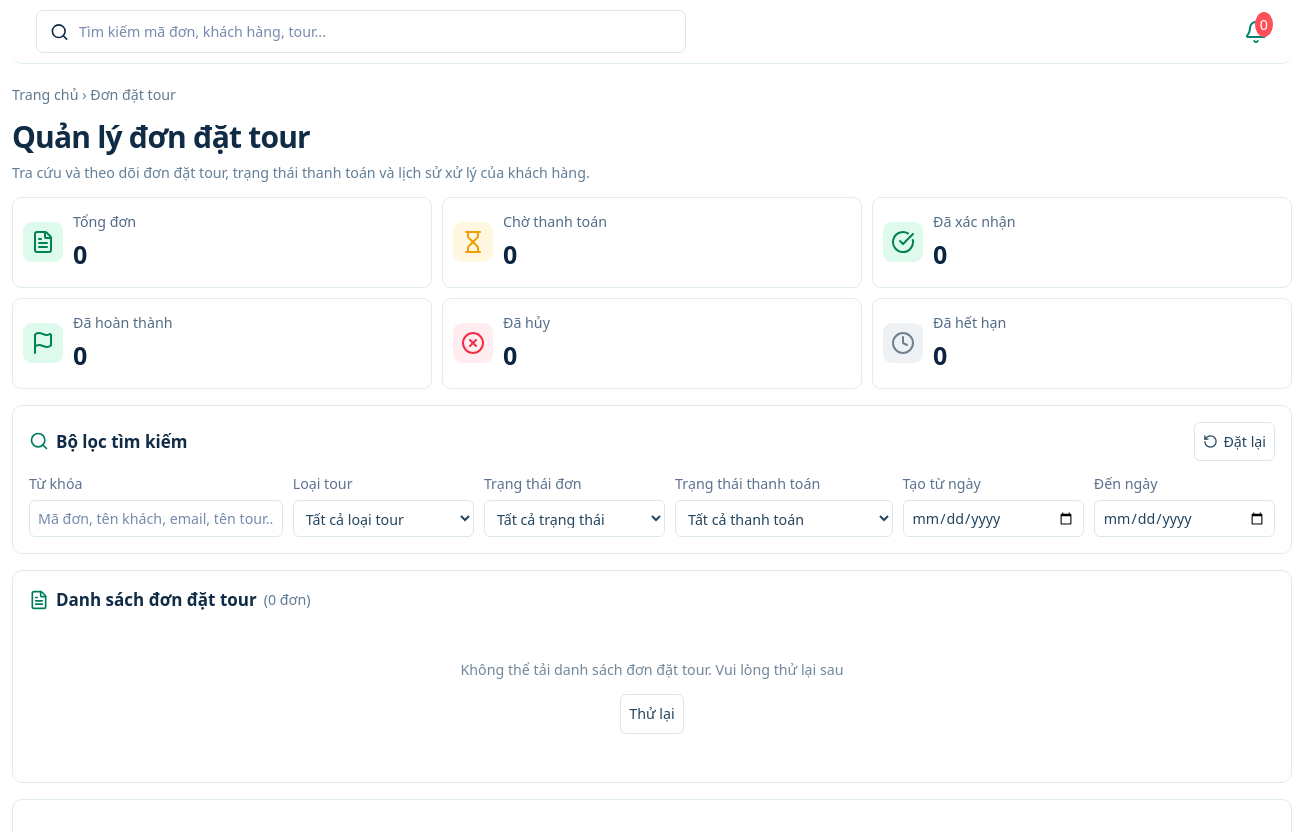
Test: reports list failure and supports retry
Expected: the message shows "Không thể tải danh sách đơn đặt tour", left=460, top=660, right=844, bottom=679
Click the button "Thử lại". click: click(652, 714)
box: left=620, top=694, right=684, bottom=734
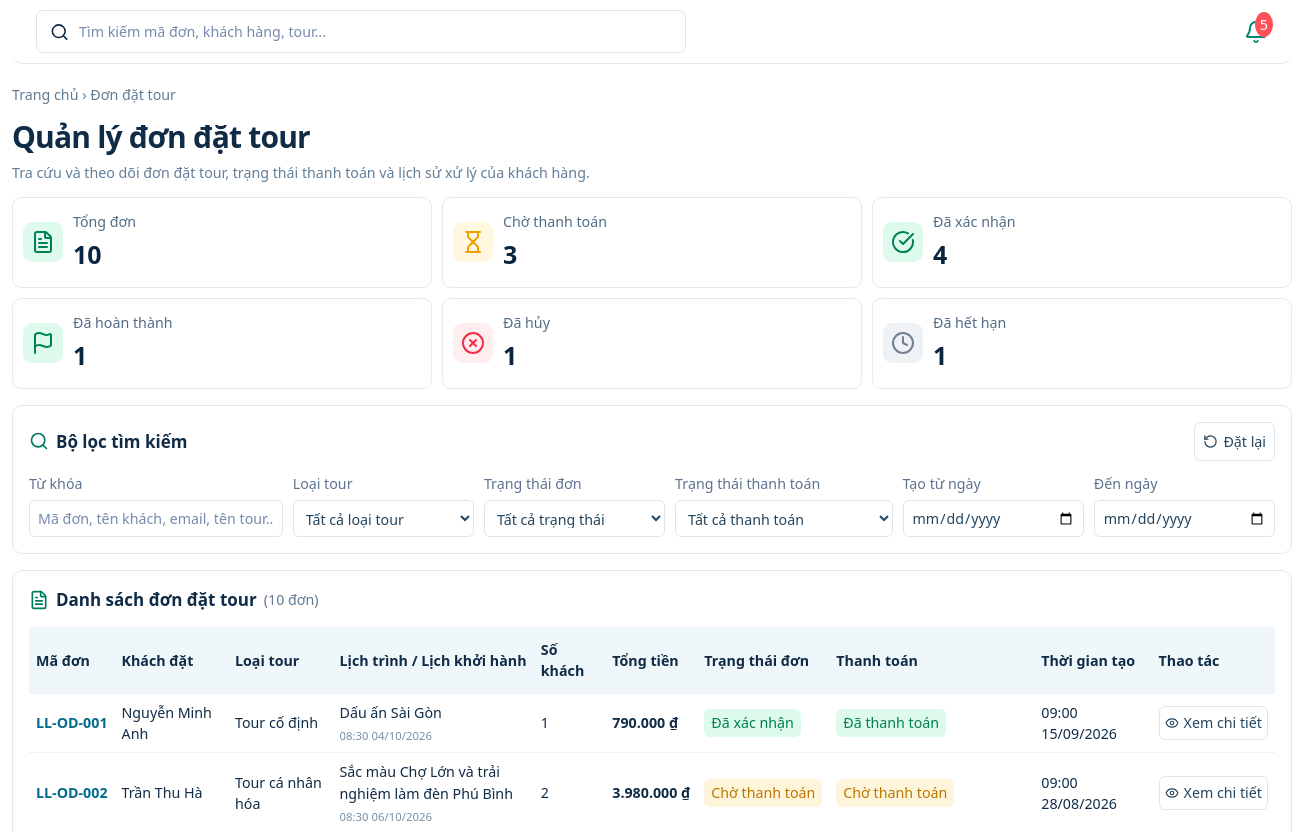
Expected: the button with aria-label "Xem chi tiết LL-OD-001" is shown, left=1159, top=706, right=1268, bottom=740
